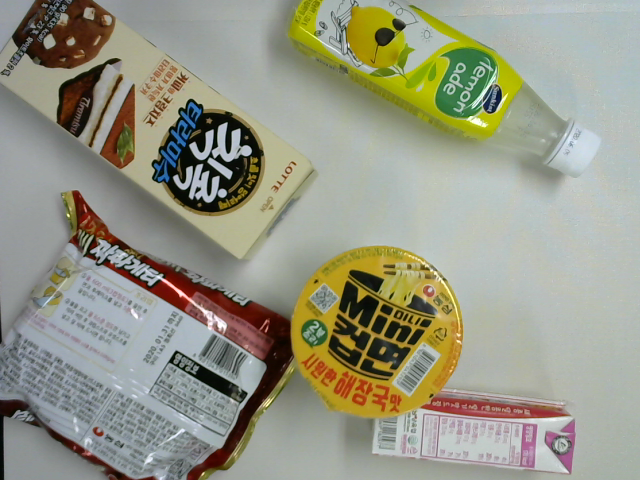Chicchok_Tiramisu: (1, 1, 319, 262)
Hejangmini: (292, 241, 462, 421)
Sichuan_Chapaghetti: (2, 189, 301, 480)
Strawberry_E_Mong: (373, 377, 577, 480)
Sunkist_Lemonaid_Pet: (279, 2, 602, 182)
